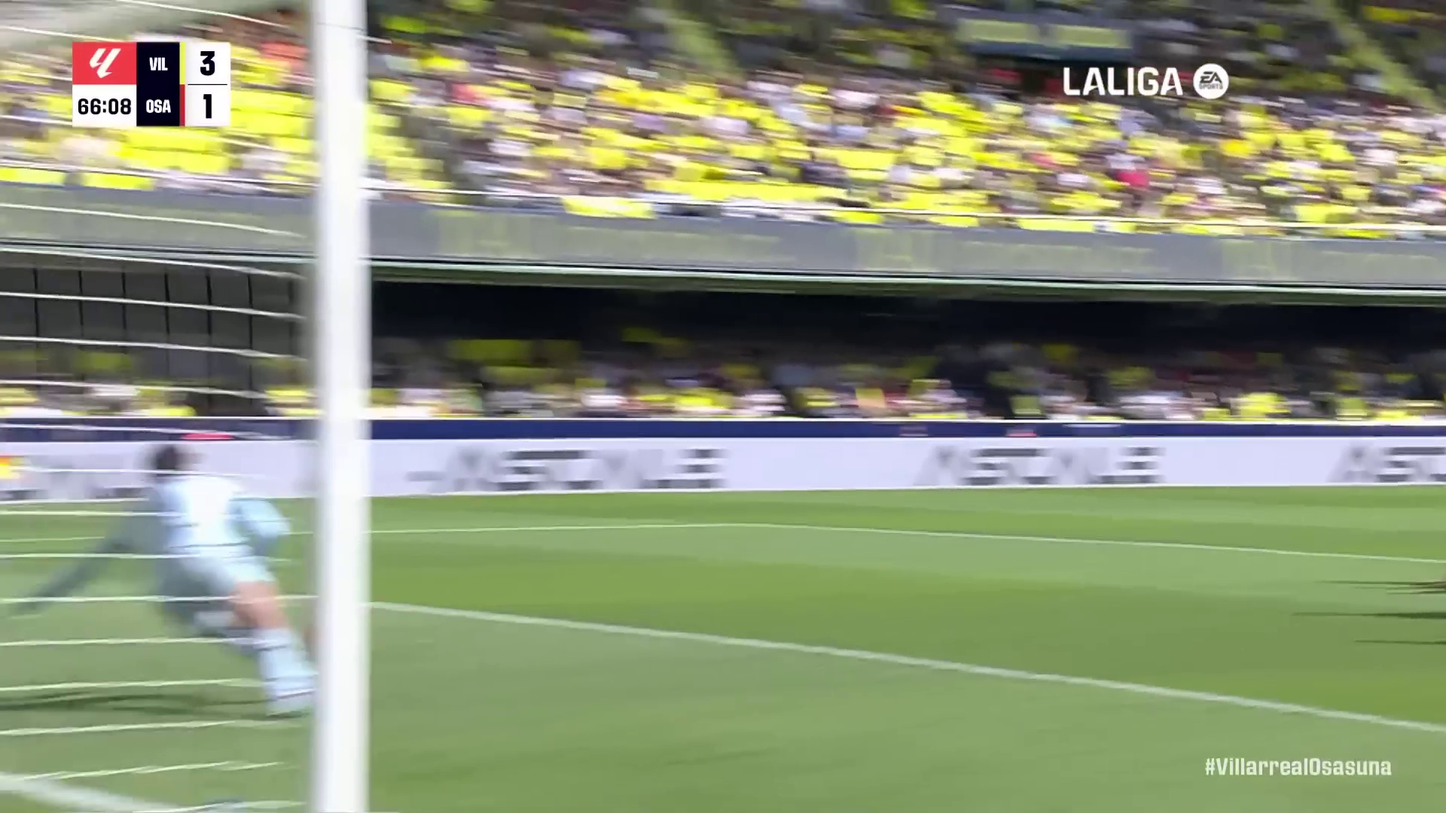player: (110, 412, 331, 708)
